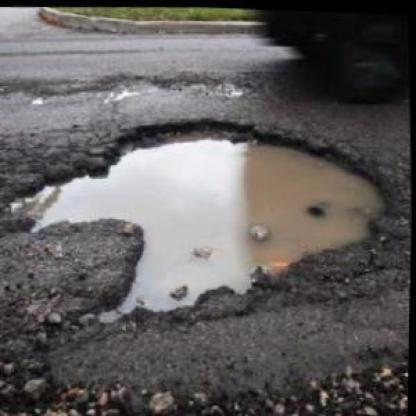pothole: (0, 96, 399, 338)
